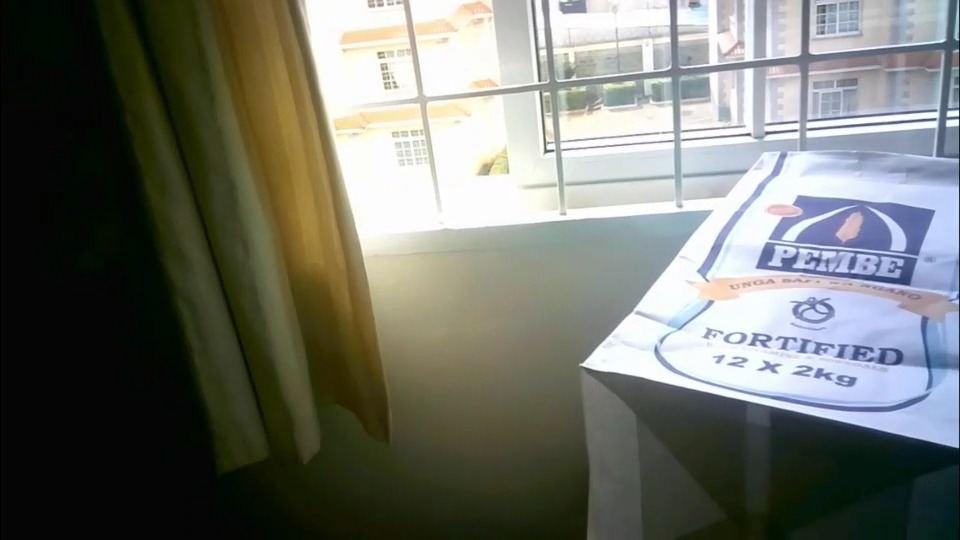wheat_flour_blue_label: (584, 151, 960, 535)
